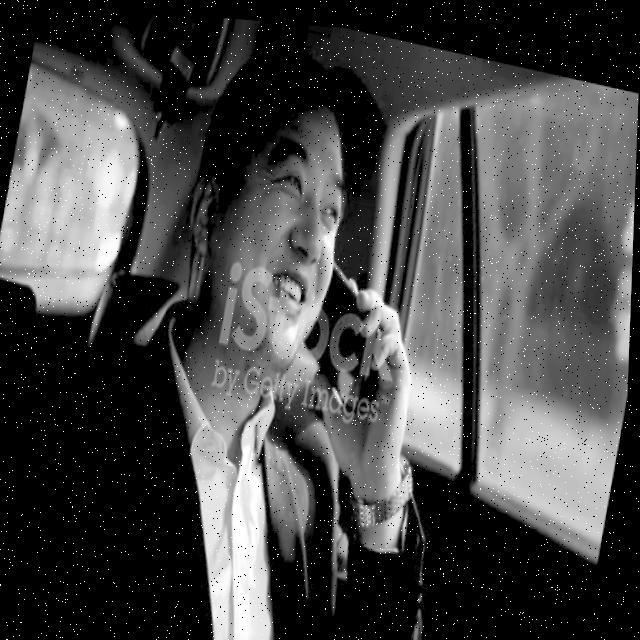PhoneCall: (298, 255, 386, 418)
